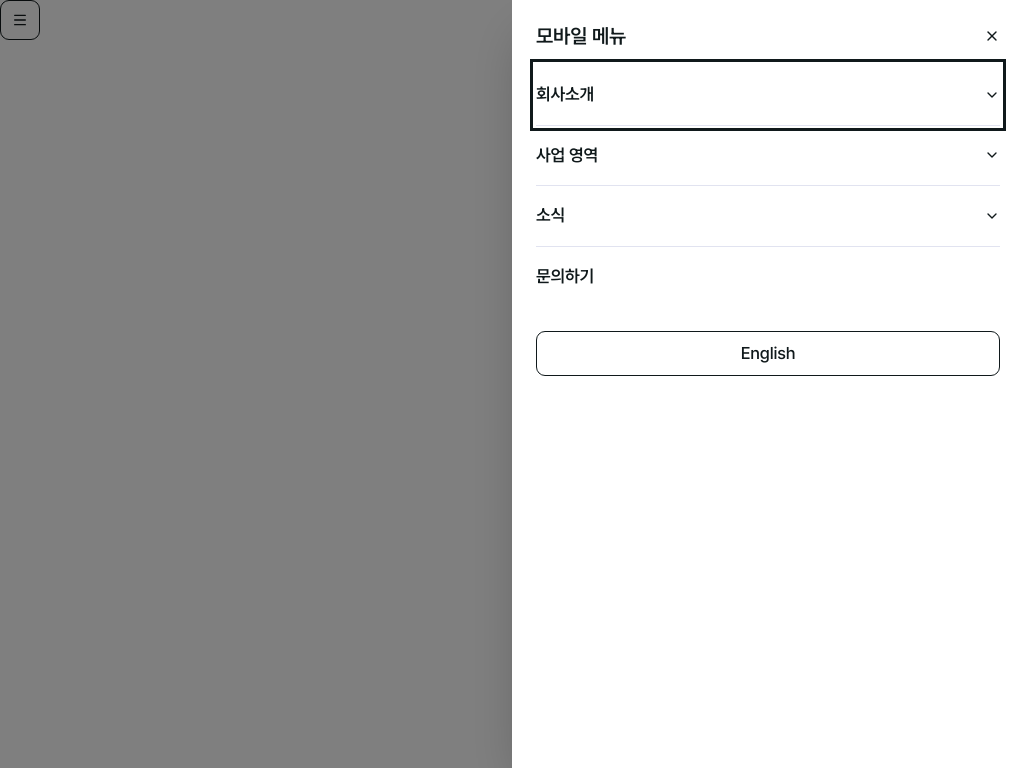
Test case: 공개 셸 내비게이션 › 모바일 메뉴는 같은 계층을 이미지 없이 제공한다
Click the button "사업 영역".
click(567, 155)  # box [536,126,1000,185]
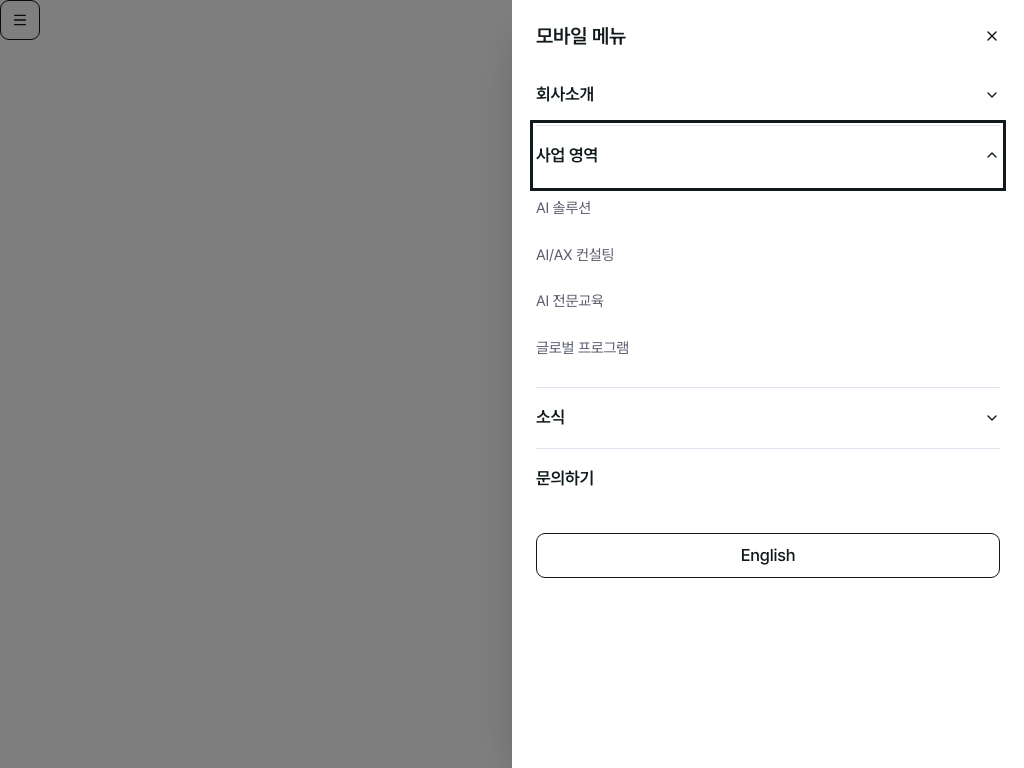
Expected: the link "AI/AX 컨설팅" is shown, [536,246,614,264]
